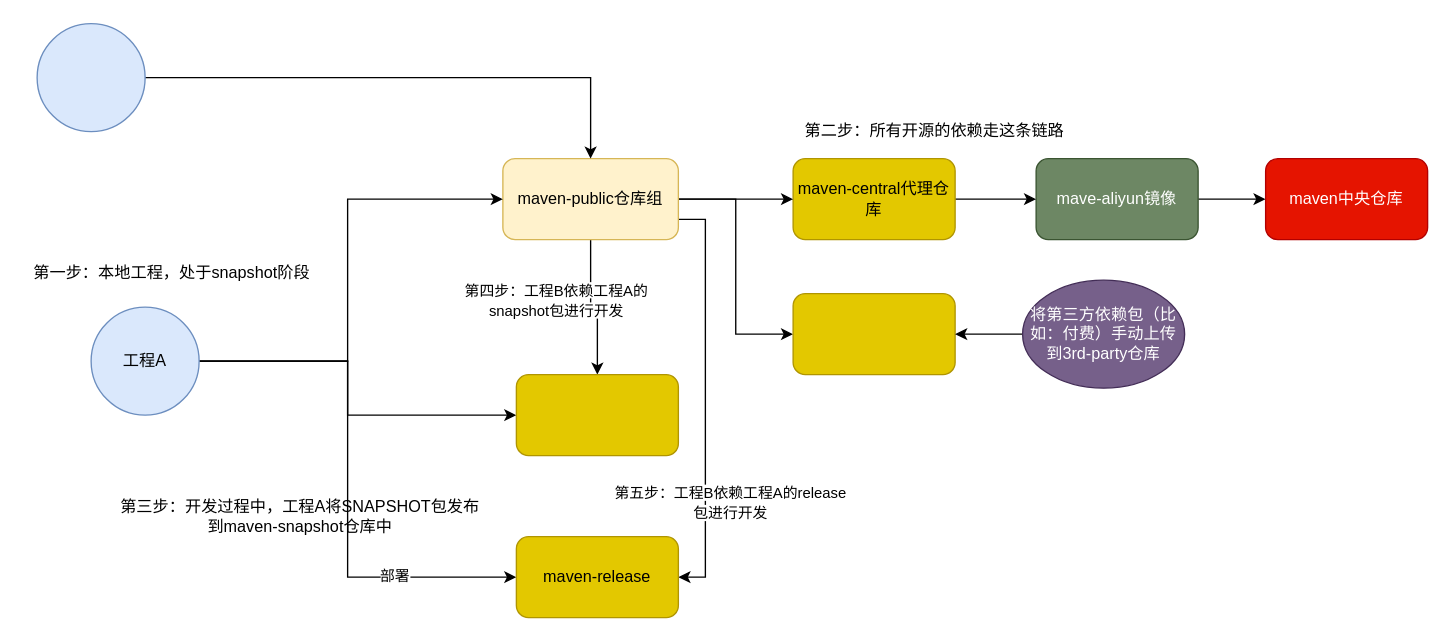
Some shapes in this 1451 by 641 pixel diagram are drawn without their labels. The shapes that lost their labels are listed below. From the top down, each one's centre as x and y in pixels, then its label:
At [90,77]: "工程B，依赖工程A，处于snapshot阶段".
At [873,333]: "3rd-party仓库".
At [596,414]: "maven-snapshot".
